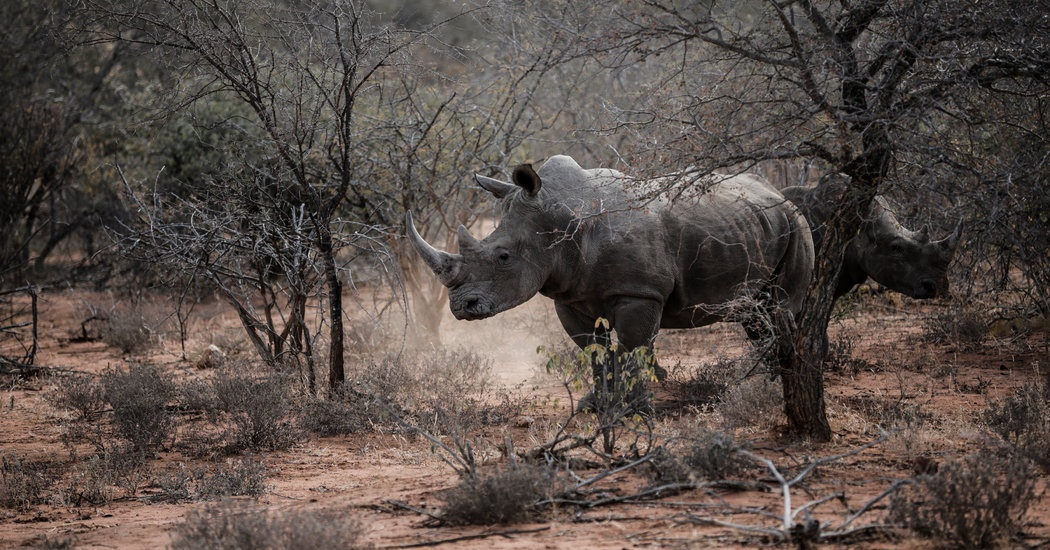rhino: (404, 150, 814, 387), (778, 173, 960, 340)
